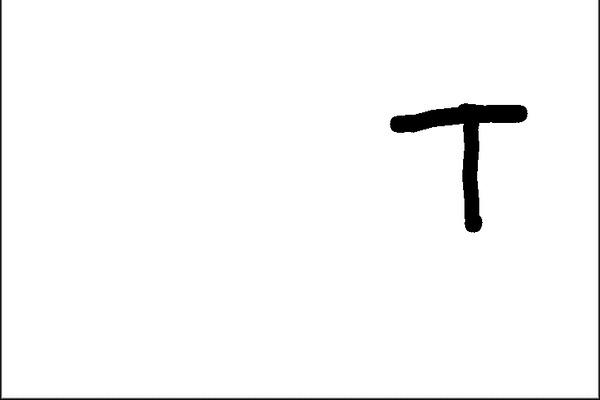T: (383, 99, 535, 239)
